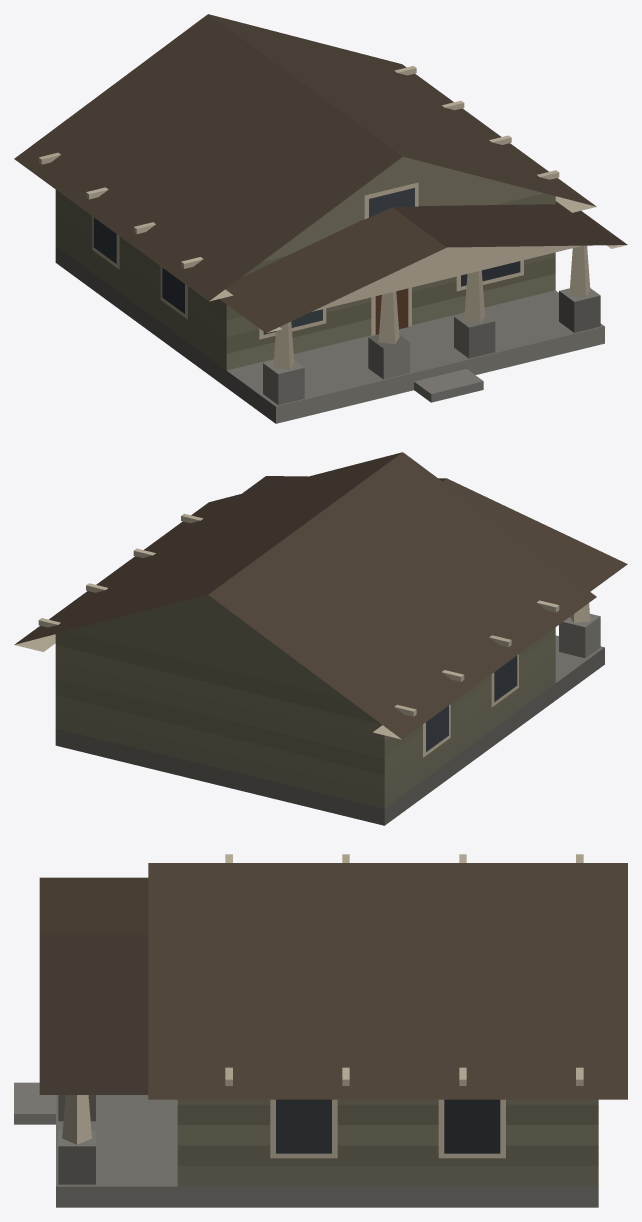
File: house-craftsman.glb
3 views of the same model, one above another, from view 1: azimuth 30°, elevation 25°; view 2: azimuth 150°, elevation 25°; view 3: azimuth 270°, elevation 25° (orthographic). The views are drawn at different scales.
Parts seen in each view (by area): view 1: house-craftsman_v0_LOD0; view 2: house-craftsman_v0_LOD0; view 3: house-craftsman_v0_LOD0.
Part boxes in pixels (x1,y1,x2,y2): house-craftsman_v0_LOD0: (14,14,627,423); house-craftsman_v0_LOD0: (14,452,627,825); house-craftsman_v0_LOD0: (14,854,627,1207).
Size of what is drawn, in the model's own units: 11.8 by 5.8 by 13.13.
